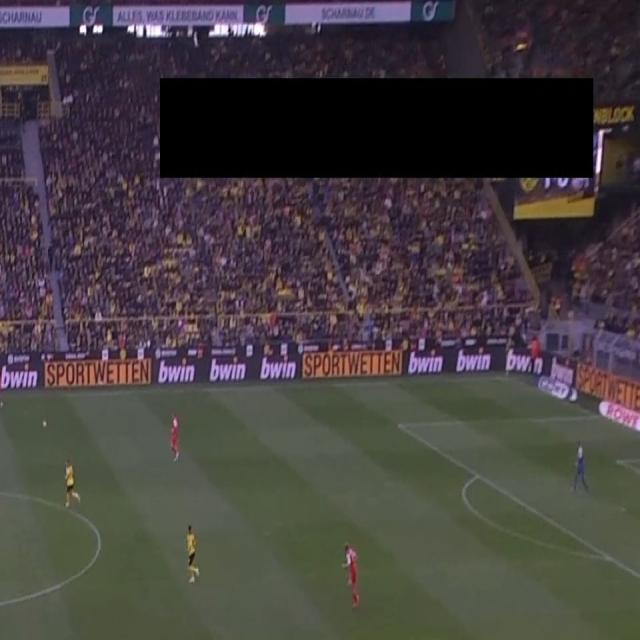ball: (42, 418, 48, 428)
